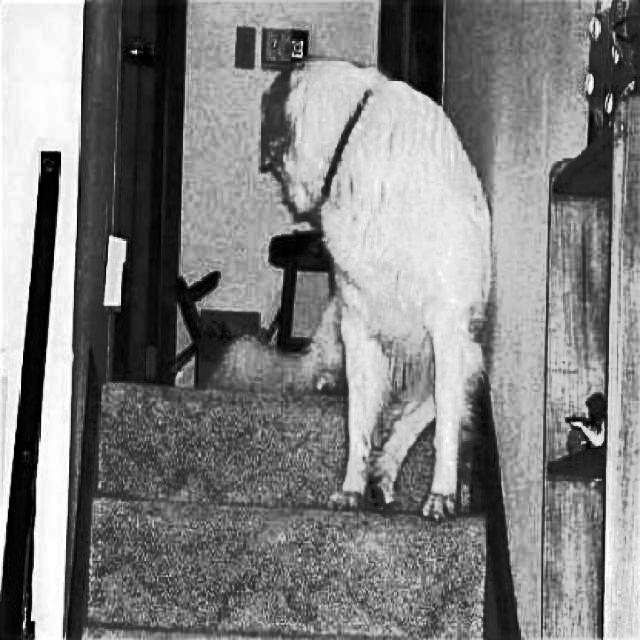Dog: (256, 48, 495, 525)
